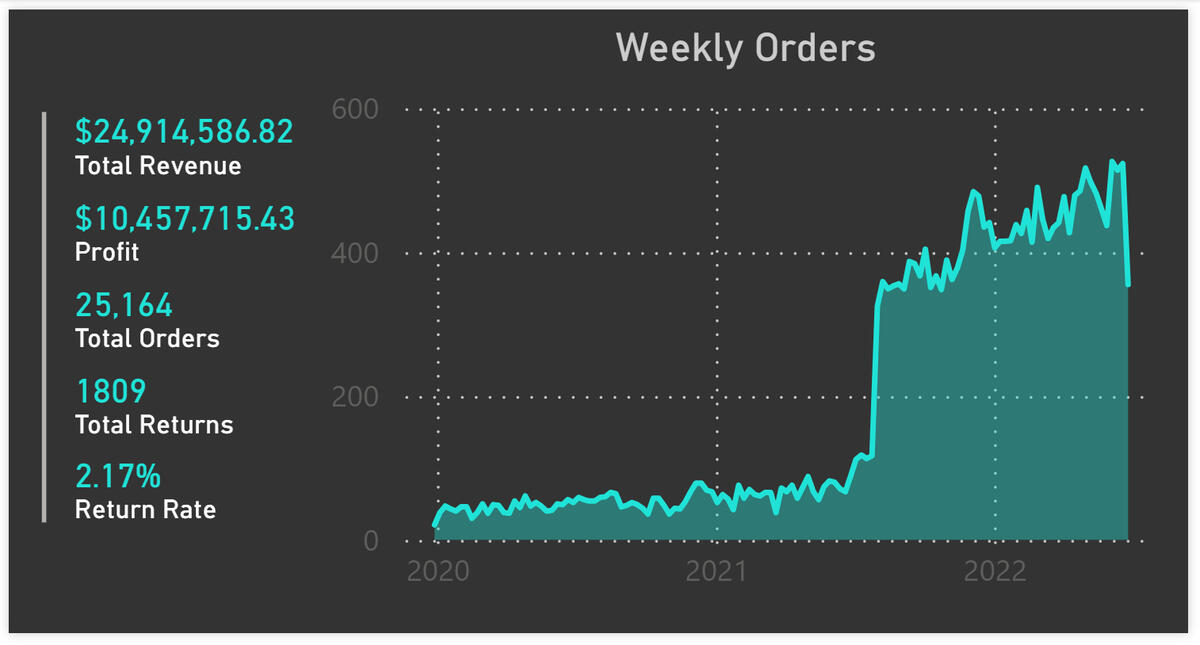

The page's visual inventory and layout, read from the dashboard file:
{"tool":"powerbi","page":{"name":"Category Tooltip","canvas":[425,225],"ordinal":4},"visuals":[{"type":"multiRowCard","fields":{"Values":["Measure Table.Total Revenue","Measure Table.Profit","Measure Table.Total Orders","Measure Table.Total Returns","Measure Table.Return Rate"]},"box":[7,32,104,177],"z":0},{"type":"areaChart","title":"Weekly Orders","fields":{"Category":["Calendar Lookup.Start of Week"],"Y":["Measure Table.Total Orders"]},"box":[110.6,5,310,214.4],"z":1000}]}

Visuals, with their boxes in screenshot pixels (x1, y1, x2, y2), scaled from the page's 425x225 canvas onto the 1200x645 screenshot:
multiRowCard - Measure Table.Total Revenue x Measure Table.Profit: 20 92 313 599
"Weekly Orders" areaChart: 312 14 1188 629
